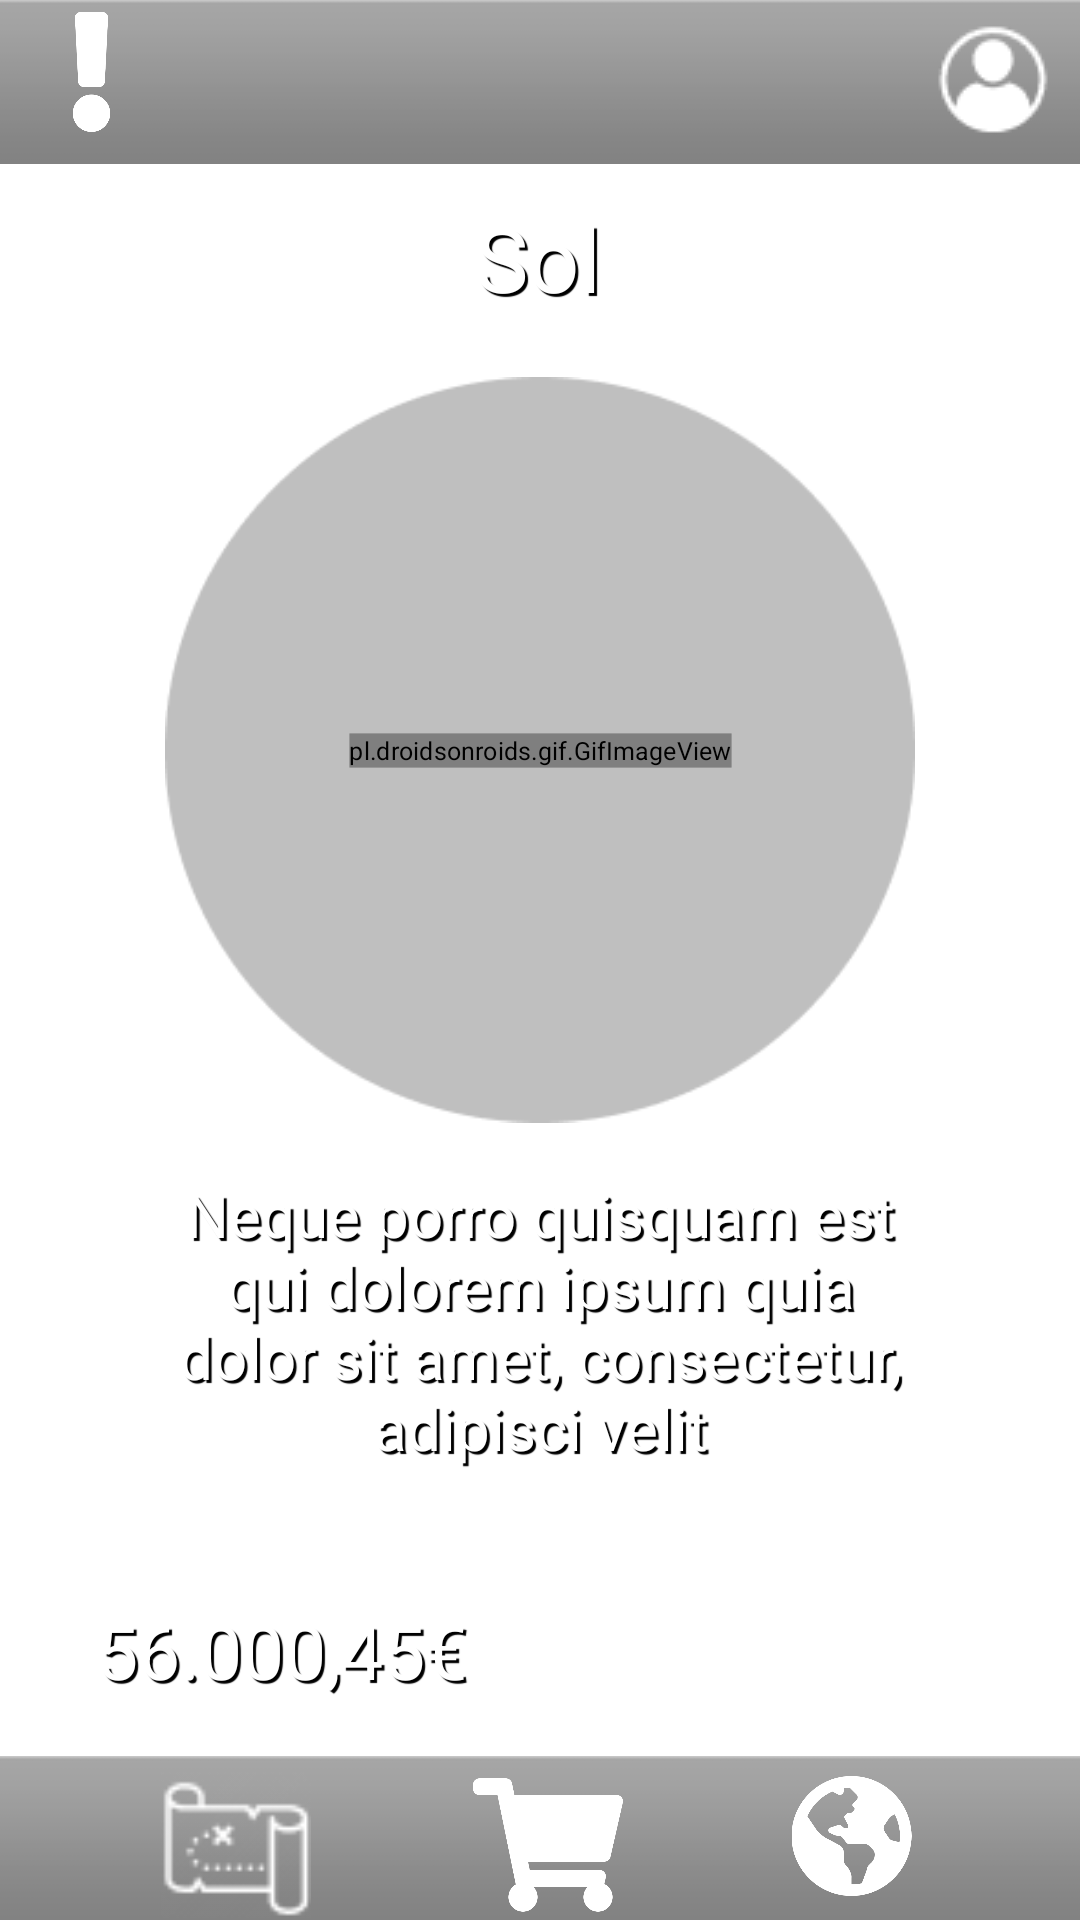

Point at icon controls on the screen. Image size 1080 × 1920, points as point (x, y).
earthicon: point (851, 1836)
excla: point (91, 72)
mapawhite: point (236, 1850)
profile: point (993, 79)
shoping: point (548, 1849)
